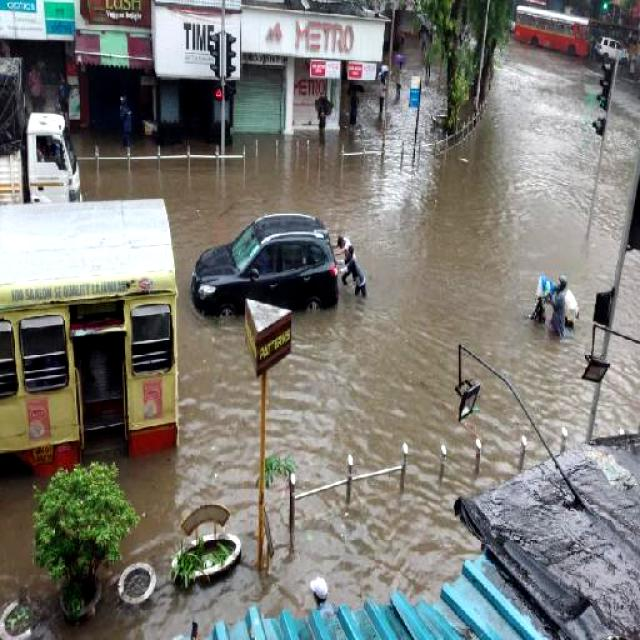civilian: (339, 240, 374, 316), (325, 225, 363, 281), (546, 278, 569, 347), (116, 90, 140, 149), (54, 75, 74, 134), (26, 62, 46, 112), (372, 78, 388, 126), (317, 105, 336, 145), (346, 86, 358, 132), (394, 64, 406, 109), (419, 23, 429, 57)
